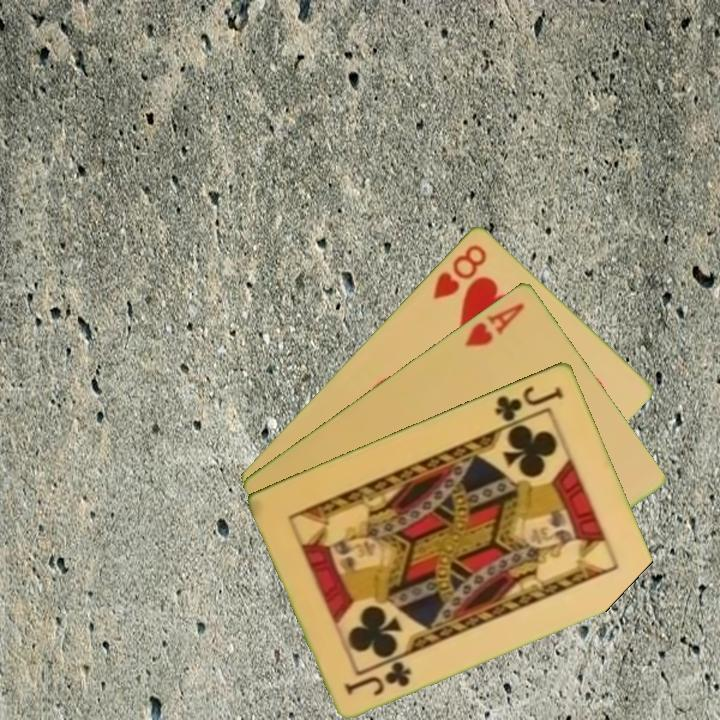8h: (429, 240, 490, 302)
Ah: (461, 298, 527, 349)
Jc: (491, 382, 567, 424), (340, 657, 415, 698)
